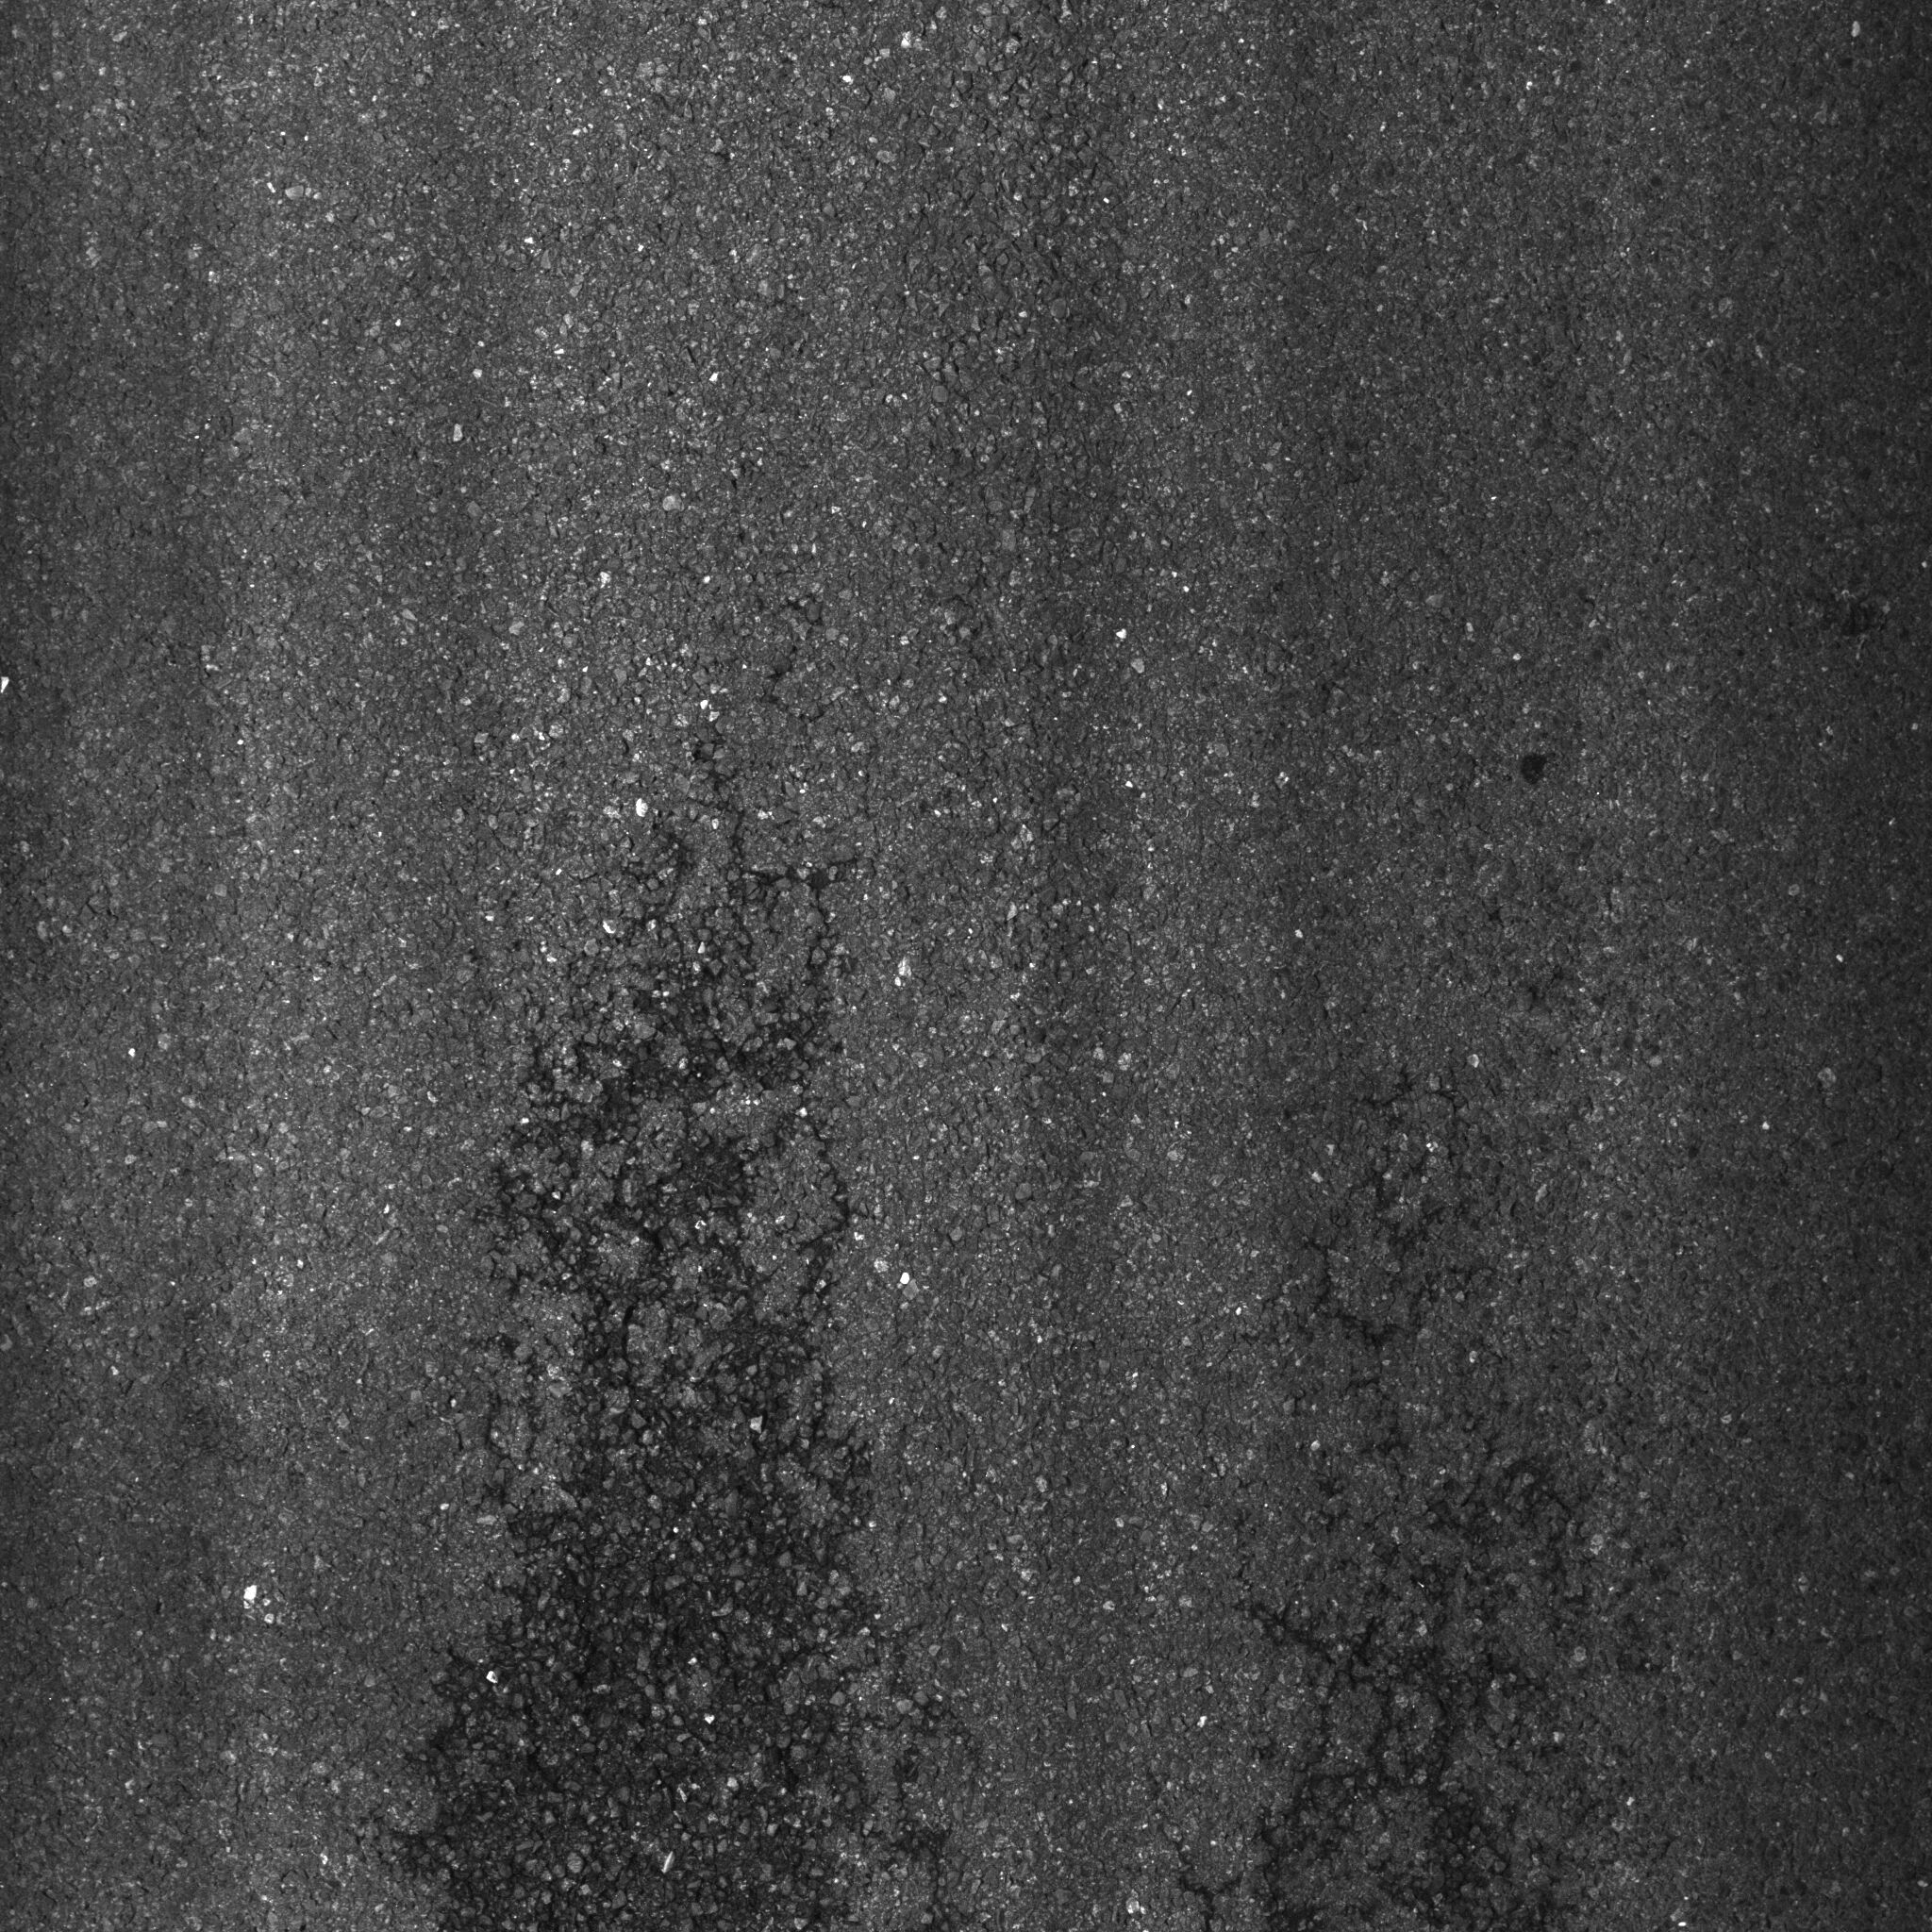alligator: (357, 775, 1028, 1932), (1129, 1046, 1709, 1932)
